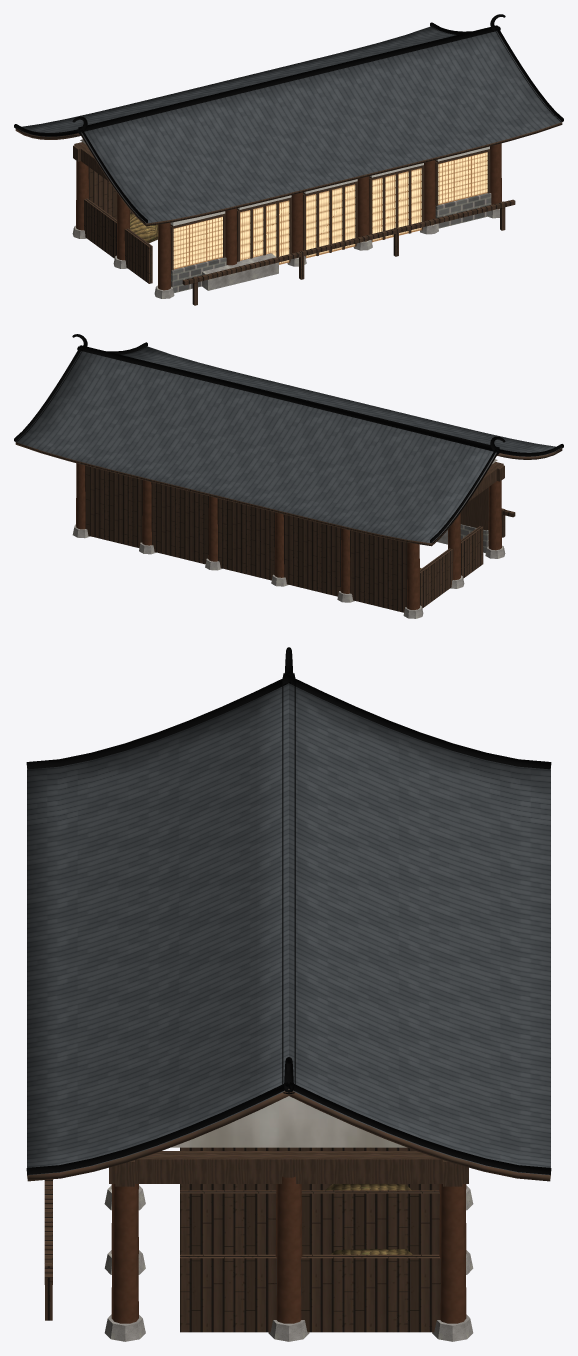
File: post_station.glb
The picture shows the model from 3 angles, top to bottom: view 1: azimuth 30°, elevation 25°; view 2: azimuth 150°, elevation 25°; view 3: azimuth 270°, elevation 25°; orthographic projection. The views are drawn at different scales.
Visible parts, largest first — view 1: StableRoof, StableLattice, Stalls, StableColumns, StableRoofRidge, StableFrames, StableDado, Trough, StableColumnBases, StableWalls, StableBeams, Hay; view 2: StableRoof, Stalls, StableColumns, StableRoofRidge, StableColumnBases, StableFrames, StableBeams; view 3: StableRoof, Stalls, StableColumns, StableBeams, StableRoofRidge, StableGables, StableColumnBases, Hay.
Part boxes in pixels (x1,y1,x2,y2): StableRoof: (15,26,562,226); StableLattice: (173,152,487,269); Stalls: (84,160,515,305); StableColumns: (76,143,501,290); StableRoofRidge: (14,14,563,223); StableFrames: (170,149,490,270); StableDado: (171,193,491,293); Trough: (202,253,278,290); StableColumnBases: (72,209,499,298); StableWalls: (170,146,489,225); StableBeams: (73,142,109,181); Hay: (130,213,158,243); StableRoof: (15,346,562,546); Stalls: (85,465,515,612); StableColumns: (76,463,501,609); StableRoofRidge: (14,334,563,543); StableColumnBases: (72,524,505,618); StableFrames: (460,487,488,530); StableBeams: (468,462,504,501); StableRoof: (27,683,550,1181); Stalls: (44,1147,440,1332); StableColumns: (111,1176,466,1323); StableBeams: (109,1151,468,1186); StableRoofRidge: (26,647,551,1174); StableGables: (171,1096,406,1147); StableColumnBases: (104,1185,473,1341); Hay: (325,1184,412,1254).
Size of what is drawn, in the model's own units: 18.31 by 6.44 by 9.61.
Materials: 11 (11 with a texture image).
